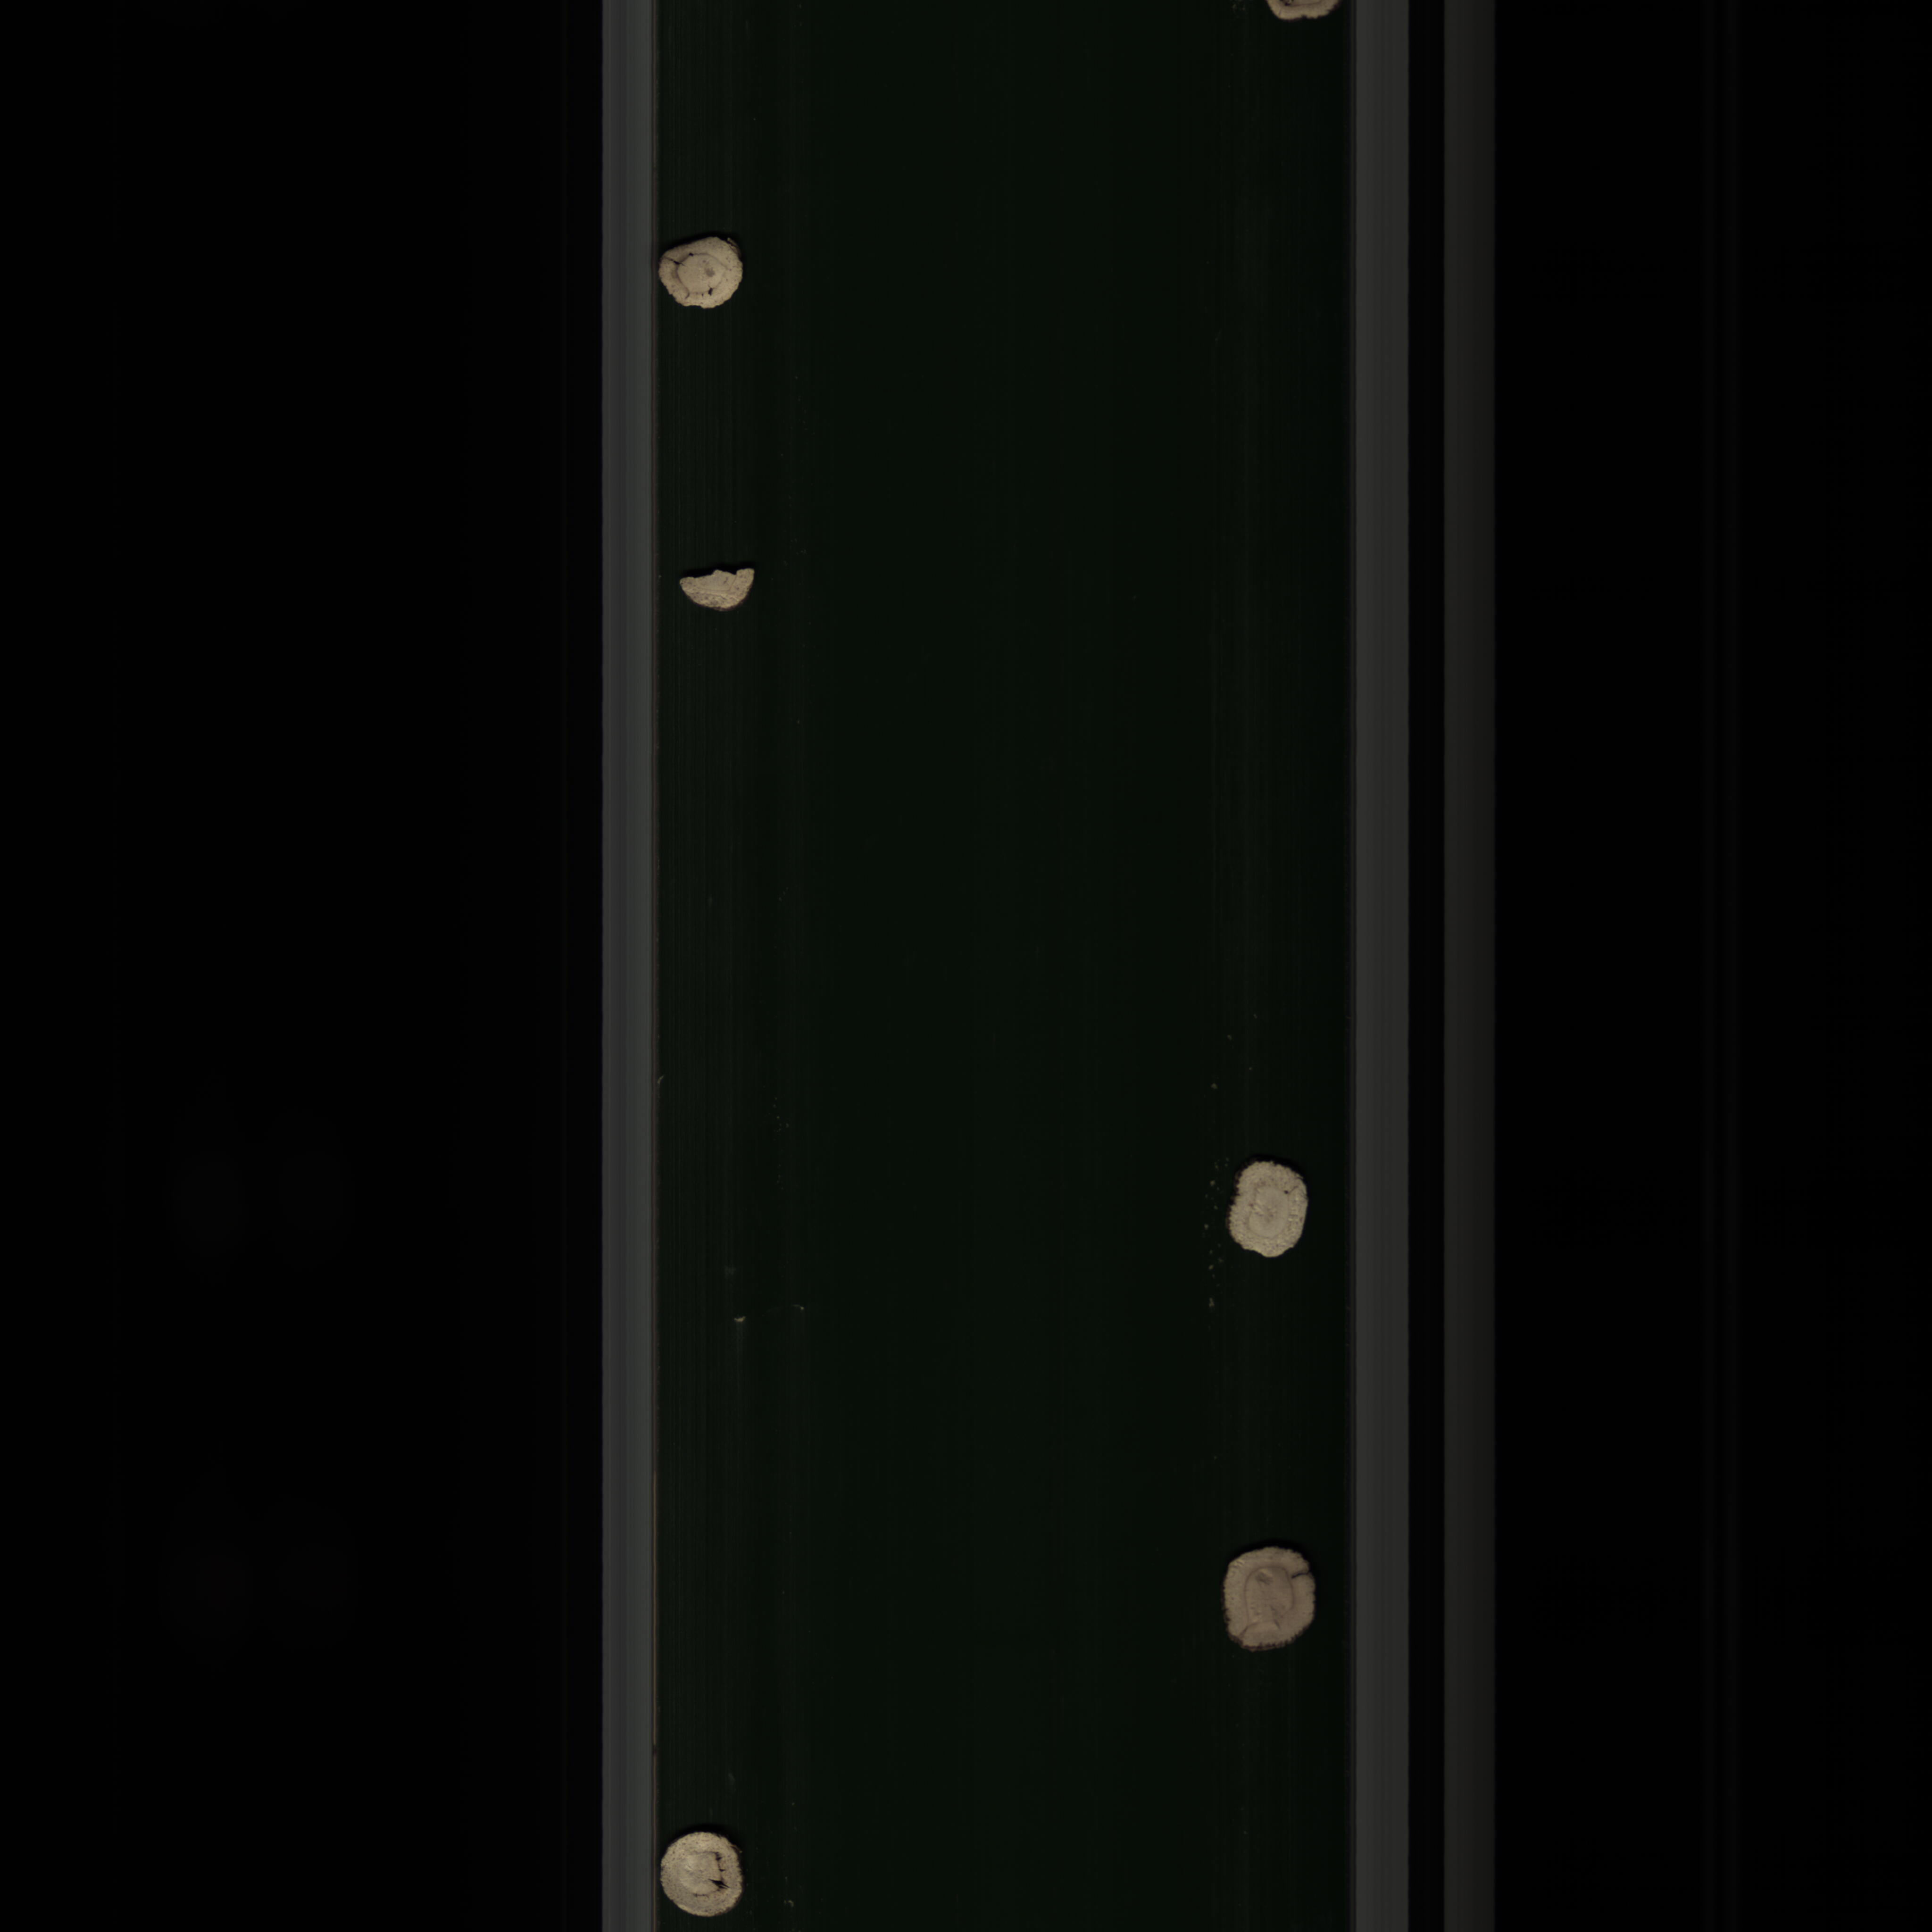debris: (672, 561, 773, 628)
hole: (649, 1824, 764, 1911)
moldy: (655, 230, 757, 315)
